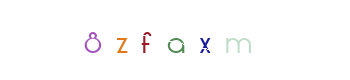8: (67, 0, 147, 80)
A: (136, 0, 216, 80)
F: (135, 0, 215, 80)
M: (165, 0, 245, 80)
X: (158, 0, 238, 80)
Z: (93, 0, 173, 80)
